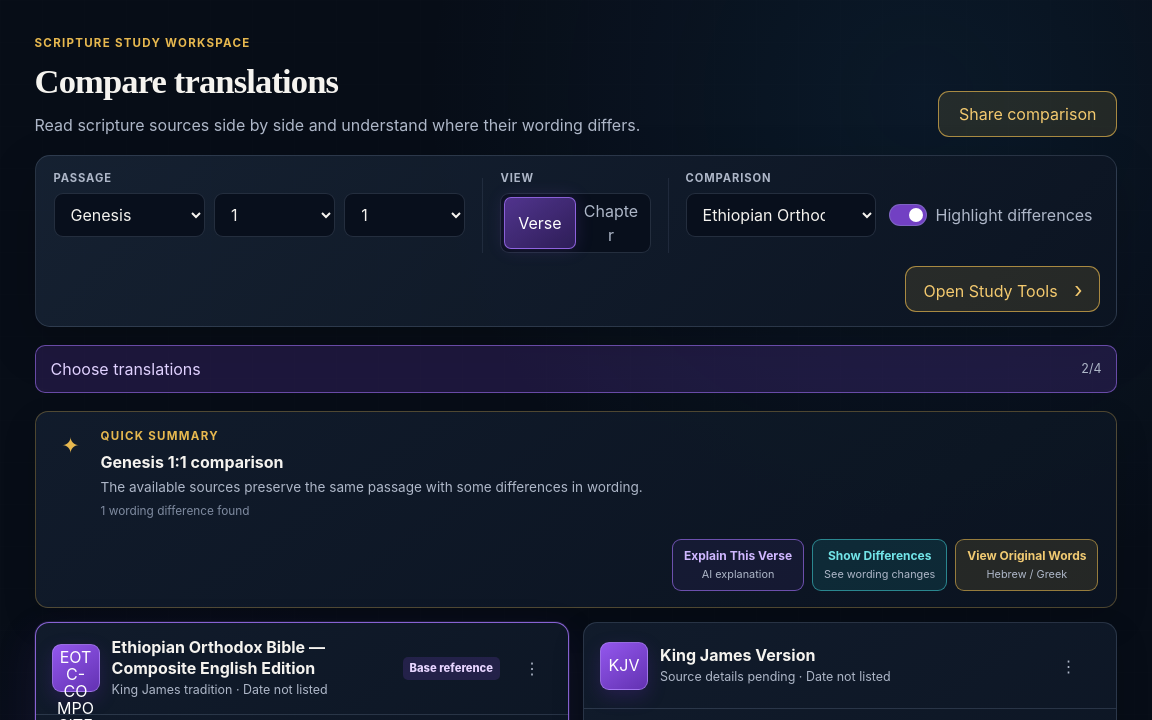
TextualComparisonWorkspace › preserves work-level source status when a selected chapter source has no verse row
Click the button with aria-label "Chapter view" at (611, 224), box [576, 198, 647, 250]
(page scrolled)
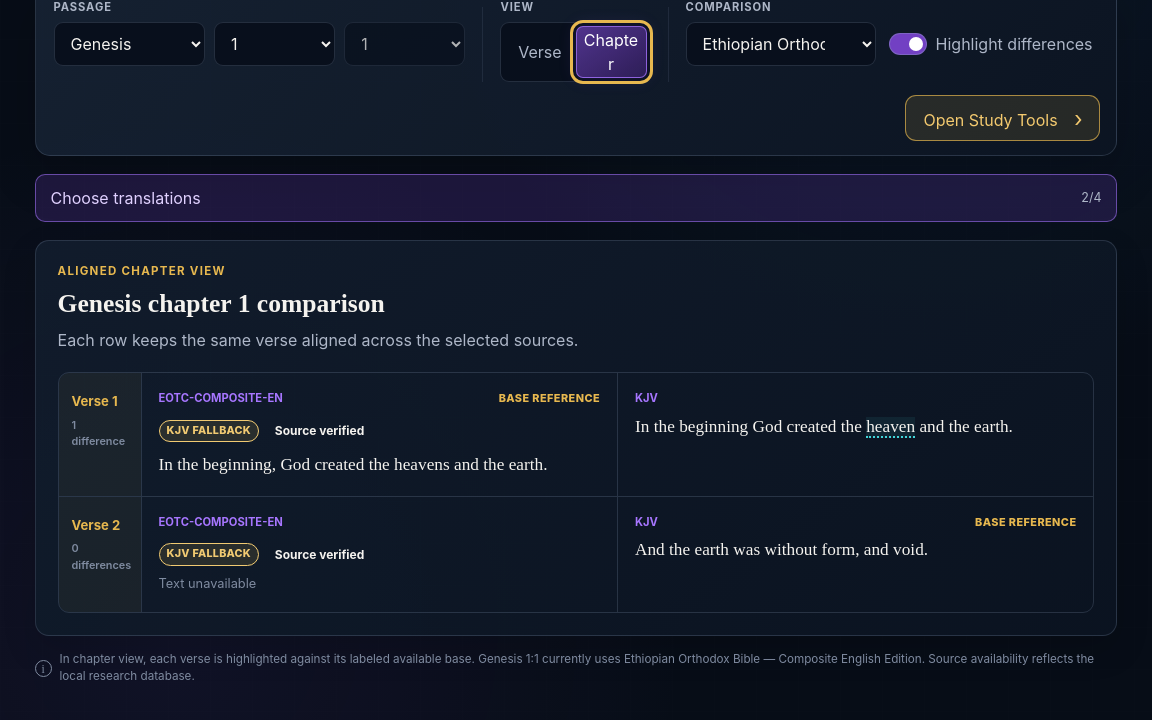
Expected: the text "Source verified" in the row of "was" is shown, [275, 547, 364, 562]
Expected: the text "Text unavailable" is shown, [158, 576, 256, 591]
